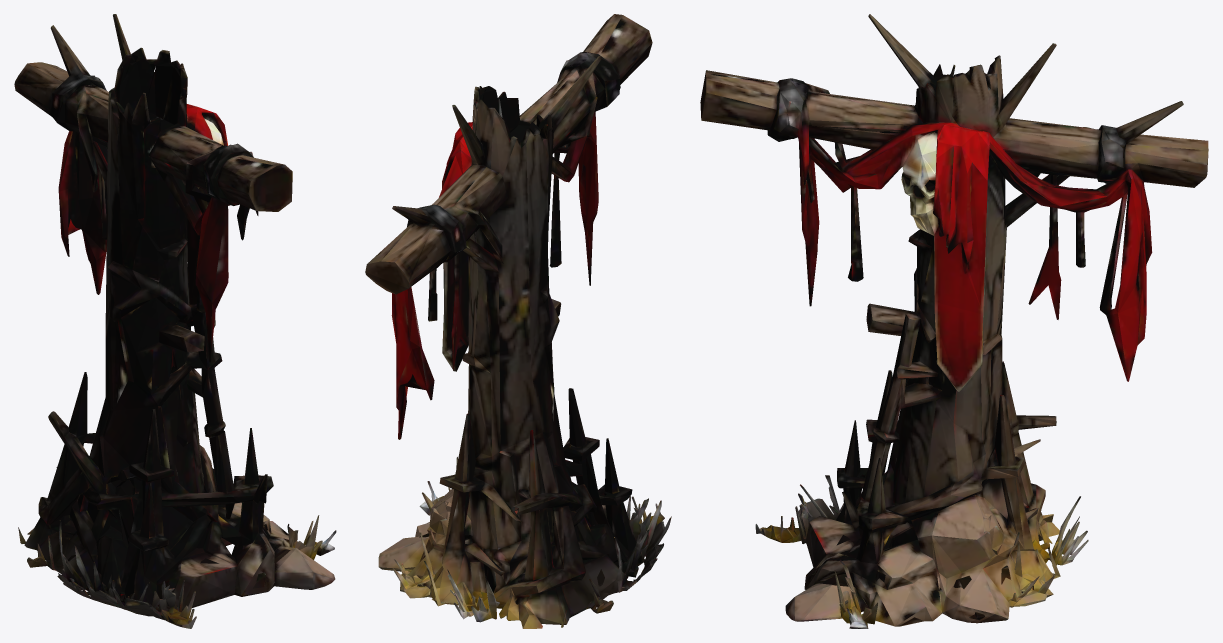
The model's file is orc_war_banner_01.glb.
3 renders of one model, left to right at view 1: azimuth 30°, elevation 25°; view 2: azimuth 150°, elevation 25°; view 3: azimuth 270°, elevation 25°, orthographic. The views are drawn at different scales.
Parts seen in each view (by area): view 1: geometry_0; view 2: geometry_0; view 3: geometry_0.
Part boxes in pixels (x1,y1,x2,y2): geometry_0: (14,14,336,628); geometry_0: (365,14,671,628); geometry_0: (700,14,1208,628).
Size of the model in its own units: 0.5174 by 0.9992 by 0.8698.
1 material, 1 textured.
